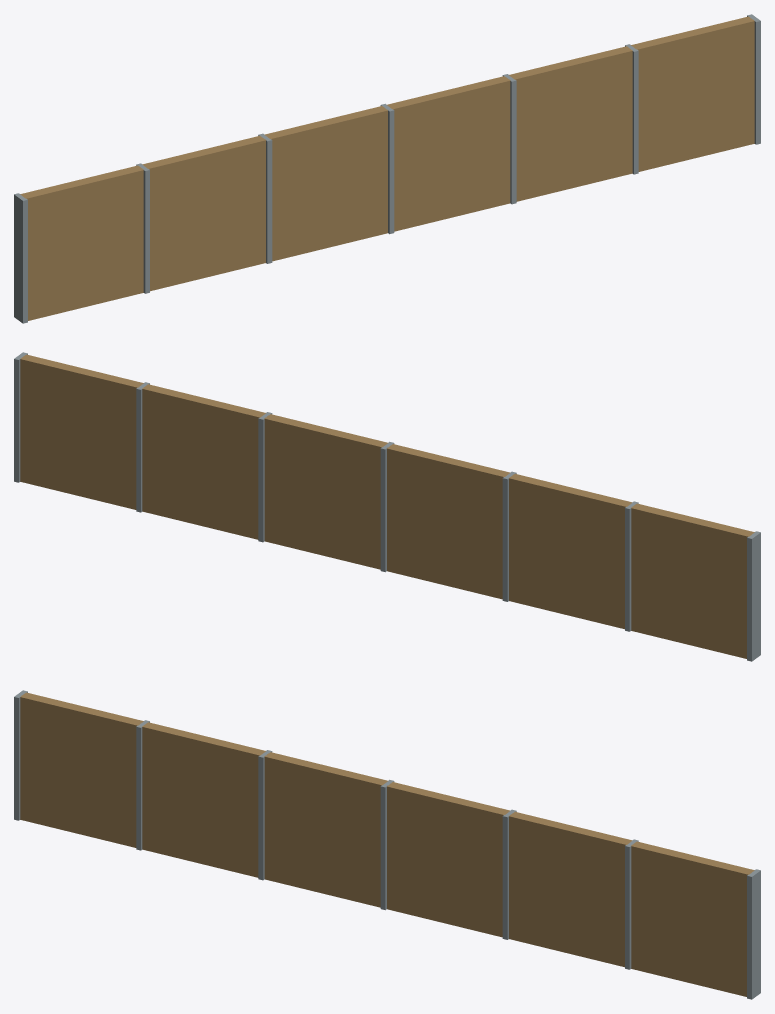
File: site-hoarding.glb
The picture shows the model from 3 angles, top to bottom: view 1: azimuth 30°, elevation 25°; view 2: azimuth 150°, elevation 25°; view 3: azimuth 330°, elevation 25°; orthographic projection.
Parts seen in each view (by area): view 1: hoarding-panel-05, hoarding-panel-04, hoarding-panel-06, hoarding-panel-01, hoarding-panel-02, hoarding-panel-03, hoarding-post-01, hoarding-post-07, hoarding-post-04, hoarding-post-05, hoarding-post-03, hoarding-post-06 (+1 smaller); view 2: hoarding-panel-05, hoarding-panel-04, hoarding-panel-06, hoarding-panel-01, hoarding-panel-02, hoarding-panel-03, hoarding-post-01, hoarding-post-07, hoarding-post-04, hoarding-post-05, hoarding-post-06, hoarding-post-02 (+1 smaller); view 3: hoarding-panel-02, hoarding-panel-03, hoarding-panel-01, hoarding-panel-05, hoarding-panel-06, hoarding-panel-04, hoarding-post-07, hoarding-post-01, hoarding-post-02, hoarding-post-03, hoarding-post-04, hoarding-post-05 (+1 smaller).
Part boxes in pixels (x1,y1,x2,y2): hoarding-panel-05: (509,46,632,201); hoarding-panel-04: (387,76,510,231); hoarding-panel-06: (631,16,754,171); hoarding-panel-01: (20,165,143,320); hoarding-panel-02: (142,135,265,291); hoarding-panel-03: (264,106,387,261); hoarding-post-01: (14,193,27,323); hoarding-post-07: (747,14,760,144); hoarding-post-04: (380,103,394,234); hoarding-post-05: (502,74,516,204); hoarding-post-03: (258,133,272,263); hoarding-post-06: (625,44,638,174); hoarding-panel-05: (142,384,265,539); hoarding-panel-04: (264,414,387,569); hoarding-panel-06: (20,354,143,509); hoarding-panel-01: (631,503,754,658); hoarding-panel-02: (509,473,632,629); hoarding-panel-03: (387,444,510,599); hoarding-post-01: (747,531,760,661); hoarding-post-07: (14,352,27,482); hoarding-post-04: (380,441,394,572); hoarding-post-05: (258,412,272,542); hoarding-post-06: (136,382,149,512); hoarding-post-02: (625,501,638,631); hoarding-panel-02: (142,722,265,877); hoarding-panel-03: (264,752,387,907); hoarding-panel-01: (20,692,143,847); hoarding-panel-05: (509,811,632,967); hoarding-panel-06: (631,841,754,996); hoarding-panel-04: (387,782,509,937); hoarding-post-07: (747,869,760,999); hoarding-post-01: (14,690,27,820); hoarding-post-02: (136,720,149,850); hoarding-post-03: (258,750,272,880); hoarding-post-04: (380,779,394,910); hoarding-post-05: (502,809,516,939).
Bounding box in the file's own units: 15.1 × 2.4 × 0.32.
